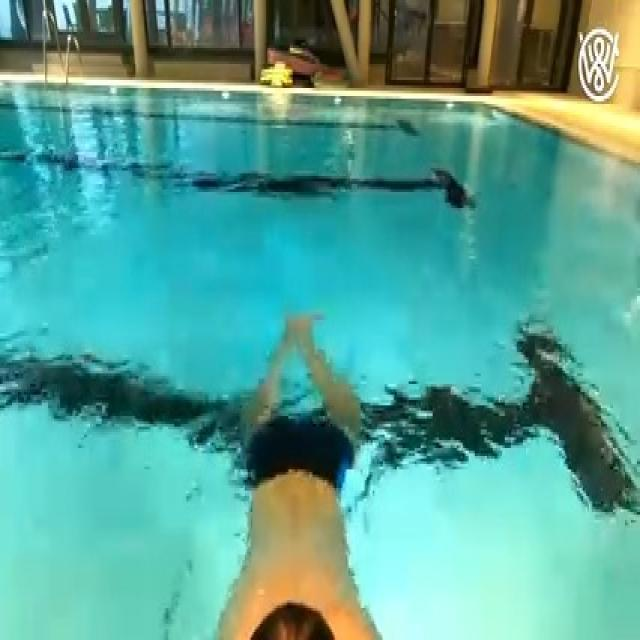Swimming: (219, 314, 384, 640)
